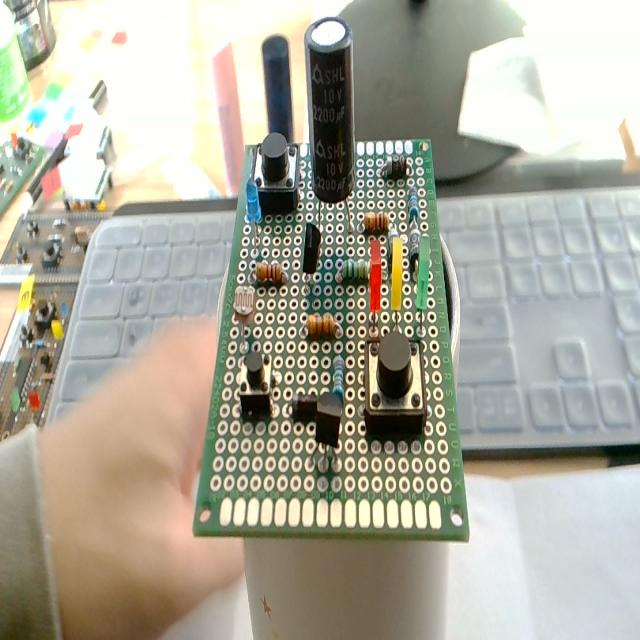Electrolytic capacitor: (302, 6, 357, 238)
cds: (227, 282, 263, 346)
diode: (376, 150, 414, 180)
led: (366, 236, 386, 336), (414, 233, 434, 332), (387, 233, 406, 330), (244, 174, 264, 262)
resistor: (294, 314, 339, 348), (250, 255, 286, 287), (336, 252, 372, 284), (358, 204, 398, 230), (404, 187, 422, 239), (328, 358, 348, 403)
switch: (360, 328, 430, 441), (244, 130, 304, 210), (235, 350, 277, 420)
transistor: (310, 384, 350, 480), (295, 215, 321, 298)
